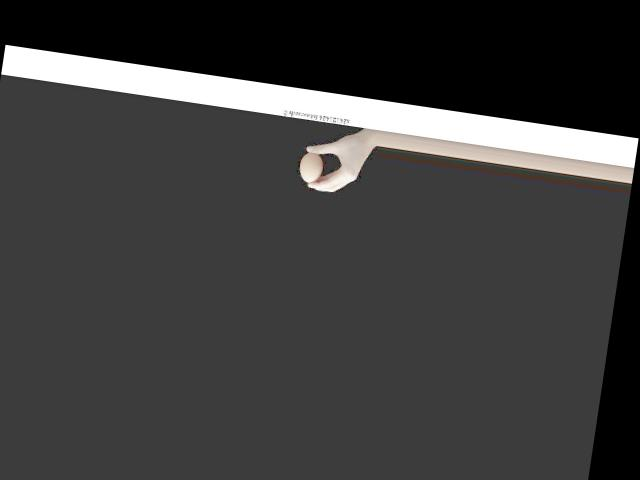egg: (297, 151, 324, 185)
